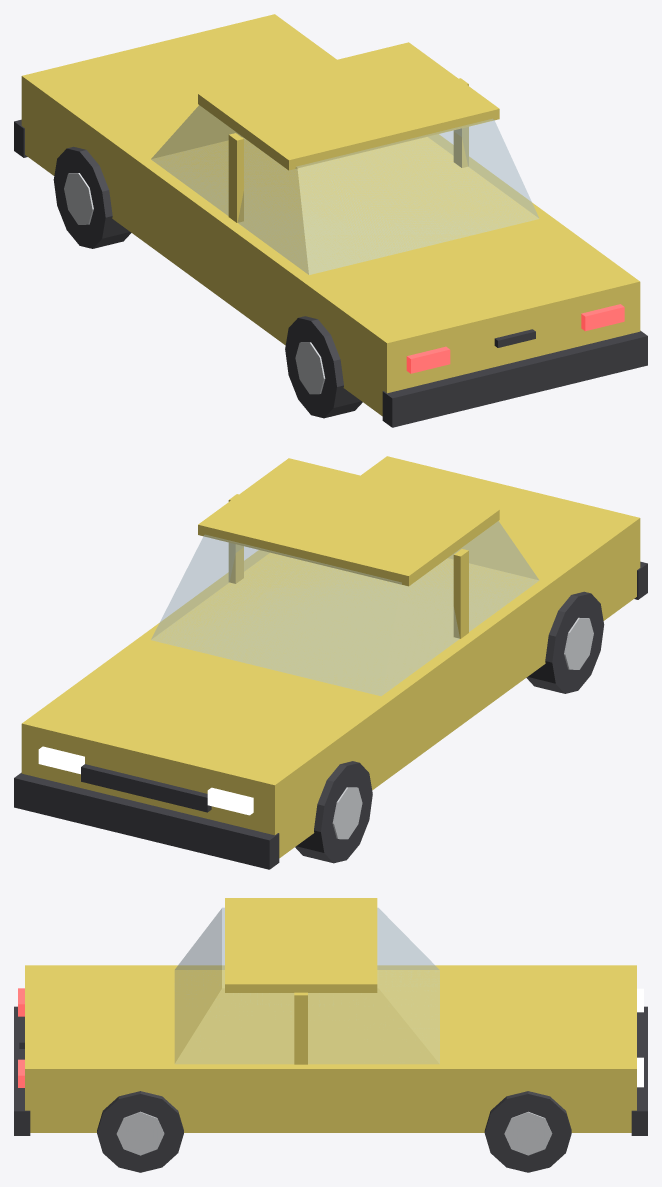
The model's file is car_sedan_yellow.glb.
3 views of the same model, one above another, from view 1: azimuth 30°, elevation 25°; view 2: azimuth 150°, elevation 25°; view 3: azimuth 270°, elevation 25° (orthographic). The views are drawn at different scales.
Visible parts, largest first — view 1: body, wheel_fl, wheel_rl; view 2: body, wheel_rl, wheel_fl; view 3: body, wheel_fr, wheel_rr.
Part boxes in pixels (box(x1,y1,x2,y2)): body: box(14, 14, 647, 427); wheel_fl: box(53, 146, 131, 248); wheel_rl: box(285, 316, 362, 418); body: box(14, 456, 647, 869); wheel_rl: box(526, 591, 604, 693); wheel_fl: box(295, 761, 372, 863); body: box(14, 898, 647, 1135); wheel_fr: box(484, 1091, 571, 1172); wheel_rr: box(97, 1091, 183, 1172).
Bounding box in the file's own units: 1.92 × 1.43 × 4.66.
